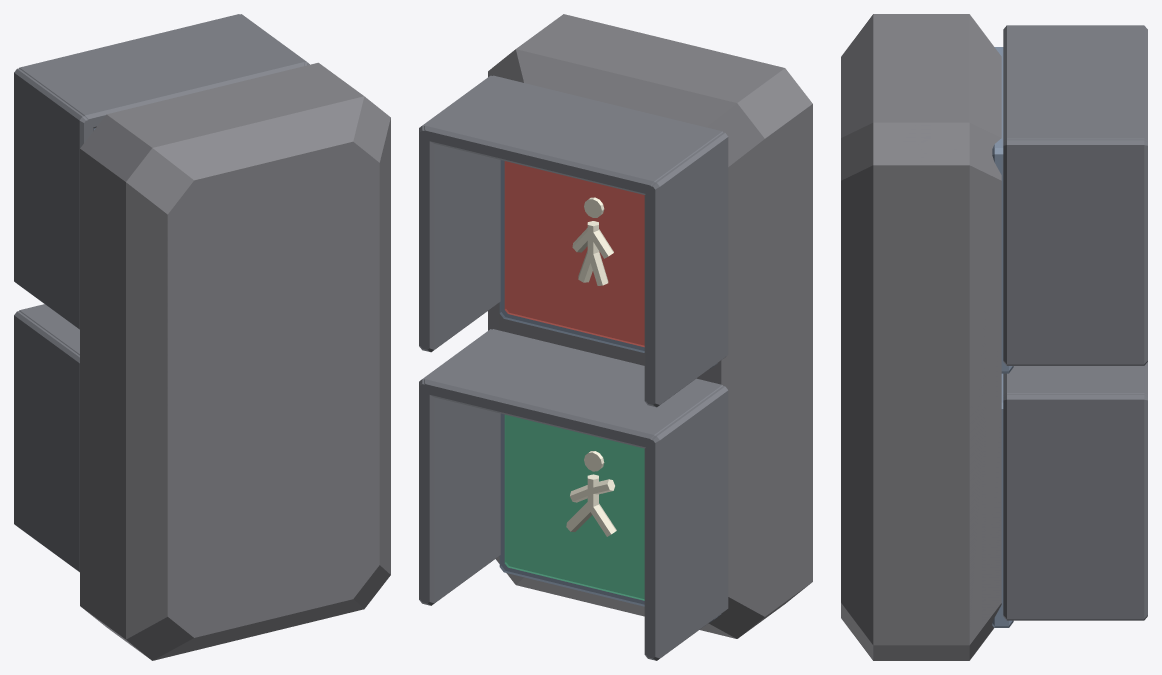
File: HK_Signal_Pedestrian.glb
3 renders of one model, left to right at view 1: azimuth 30°, elevation 25°; view 2: azimuth 150°, elevation 25°; view 3: azimuth 270°, elevation 25°, orthographic. The views are drawn at different scales.
Visible parts, largest first — view 1: HK_Signal_Pedestrian_Housing; view 2: HK_Signal_Pedestrian_Housing, HK_Signal_Pedestrian_GreenLight, HK_Signal_Pedestrian_RedLight; view 3: HK_Signal_Pedestrian_Housing.
Part boxes in pixels (bbox=[...]): HK_Signal_Pedestrian_Housing: bbox=[14, 14, 390, 660]; HK_Signal_Pedestrian_Housing: bbox=[419, 14, 812, 660]; HK_Signal_Pedestrian_GreenLight: bbox=[504, 414, 644, 600]; HK_Signal_Pedestrian_RedLight: bbox=[504, 161, 644, 347]; HK_Signal_Pedestrian_Housing: bbox=[841, 14, 1147, 660].
Size of the model in its own units: 0.4 by 0.74 by 0.382.
